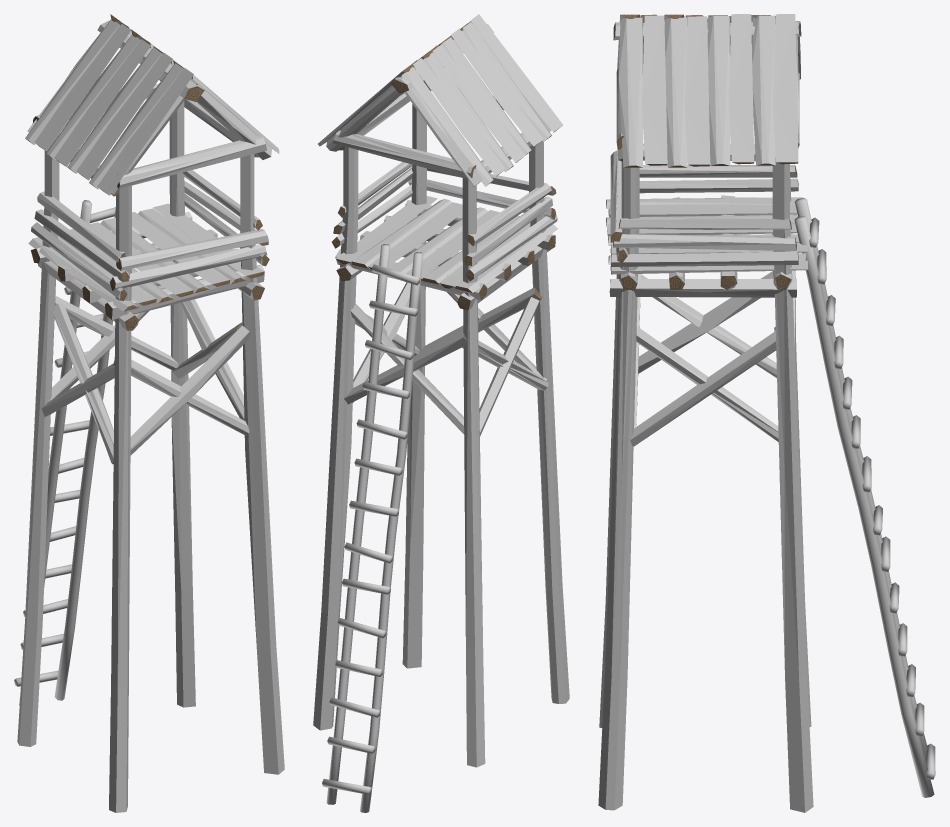
File: FrontierTower1.fbx
3 renders of one model, left to right at view 1: azimuth 30°, elevation 25°; view 2: azimuth 150°, elevation 25°; view 3: azimuth 270°, elevation 25°, orthographic. The views are drawn at different scales.
Visible parts, largest first — view 1: Log.001, Step_2, Ladder.001; view 2: Log.001, Ladder.001, Step_2; view 3: Log.001, Ladder.001, Step_2.
Part boxes in pixels (x1,y1,x2,y2): Log.001: (17,14,284,812); Step_2: (29,170,269,330); Ladder.001: (14,200,115,705); Log.001: (313,14,569,767); Ladder.001: (322,244,423,812); Step_2: (335,162,557,309); Log.001: (598,14,813,812); Ladder.001: (794,198,935,797); Step_2: (606,160,807,297).
Size of what is drawn, in the model's own units: 477 by 1211 by 311.
